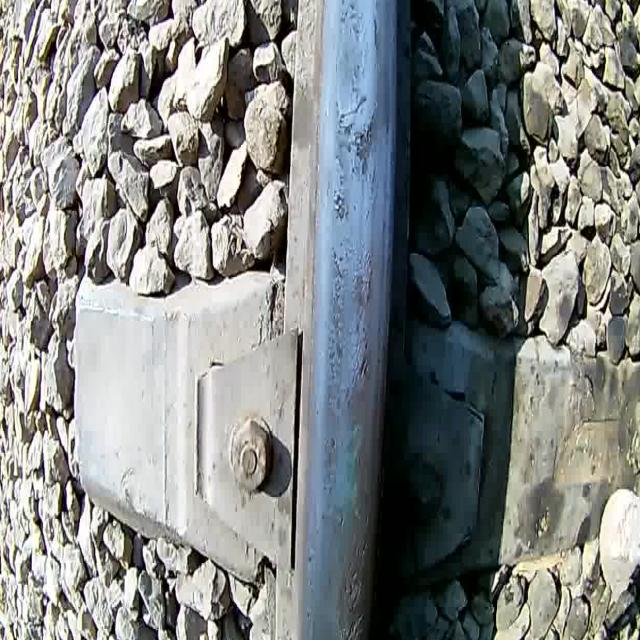Squats: (313, 236, 390, 640), (328, 0, 393, 229)
